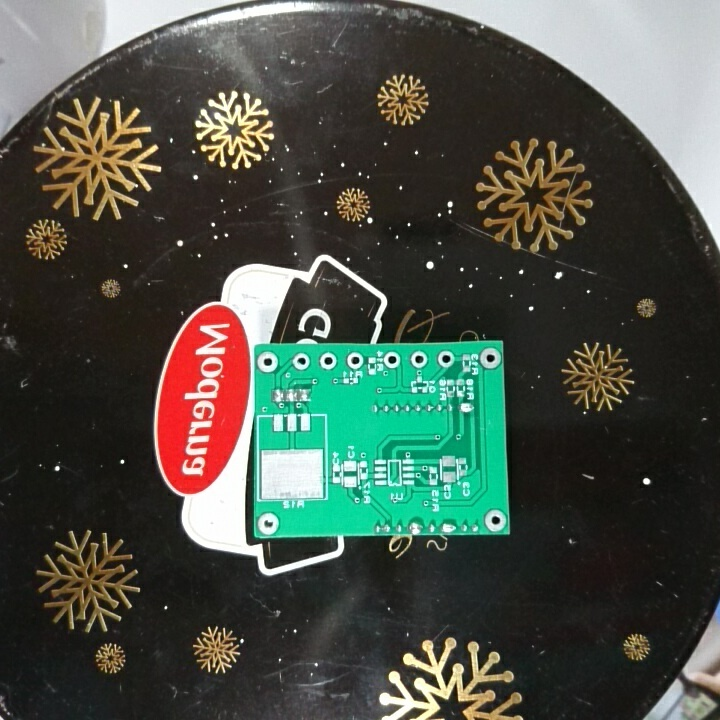F: (482, 507, 508, 532), (256, 349, 280, 376), (257, 511, 282, 536), (478, 346, 502, 371), (343, 349, 365, 370), (317, 351, 340, 371), (291, 351, 311, 371), (409, 349, 428, 369), (383, 351, 402, 369), (436, 349, 453, 368)
P: (438, 520, 457, 535), (407, 519, 424, 535), (458, 400, 476, 415)
